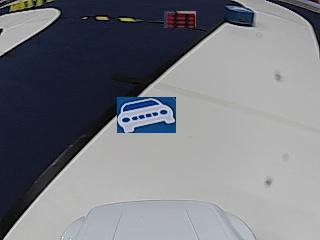prop: (226, 5, 254, 26)
